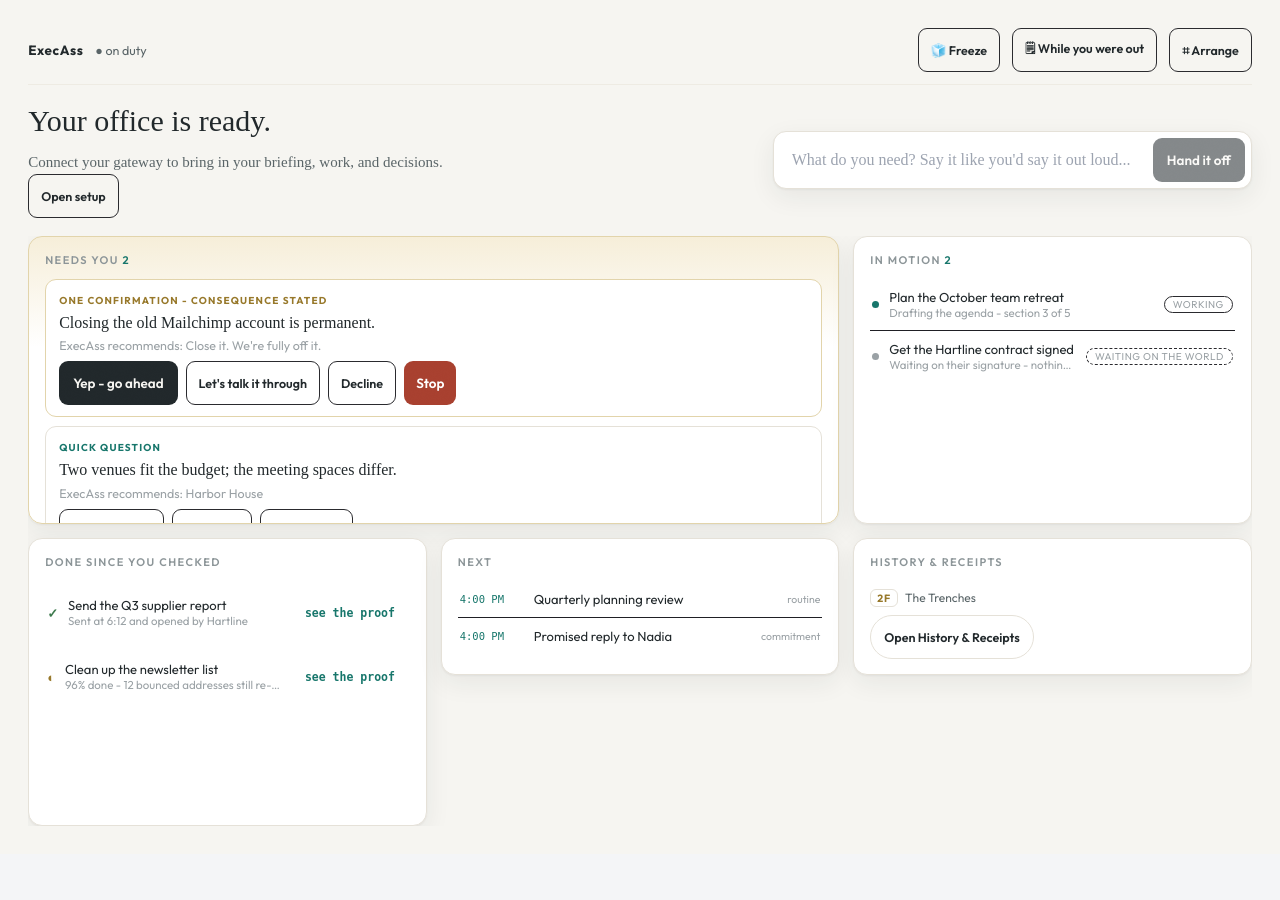
Test case: ExecassOfficePanel room shortcuts › keeps a refusal across rerenders when the resolved room registry is unchanged
Step 1. Click the button "Open History & Receipts" → coordinates (952, 637), box [870, 615, 1034, 659]
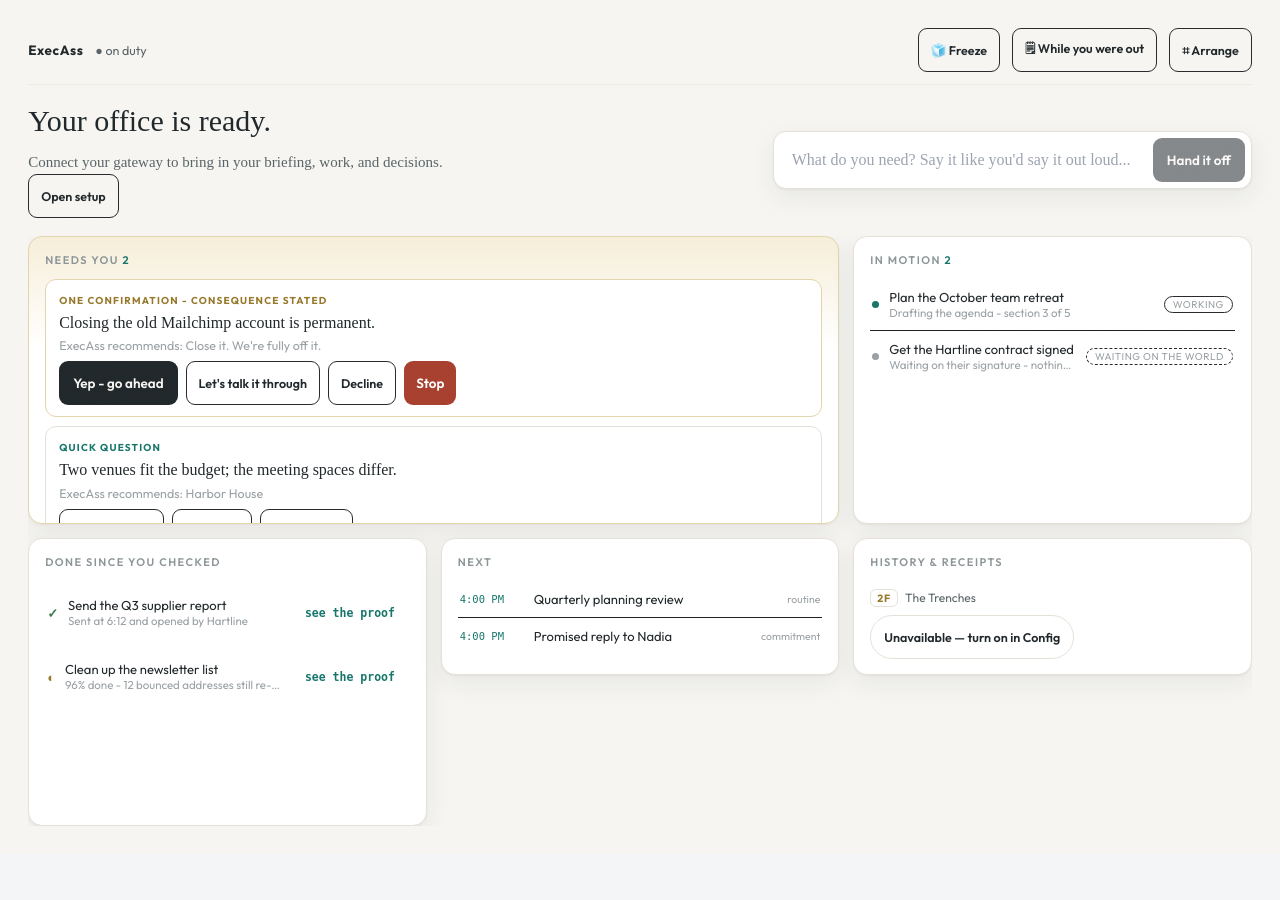
Expected: the message "Unavailable — turn on in Config" is shown, [884, 629, 1060, 645]
